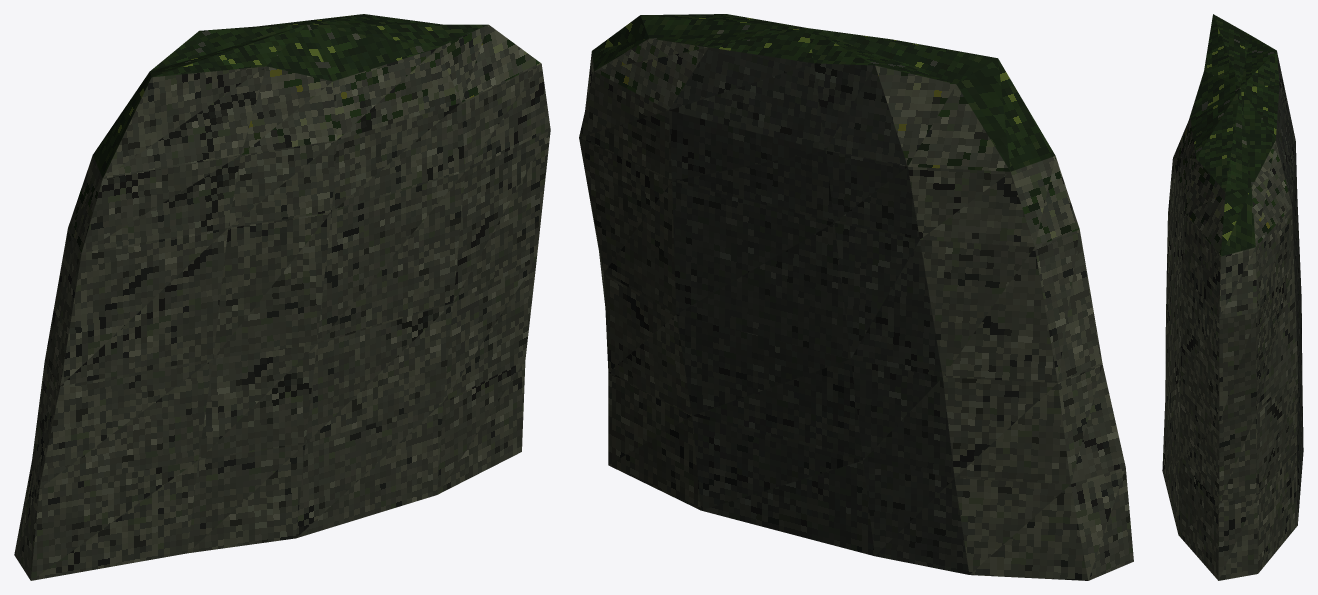
Rendered from forest_rock_slab.glb.
3 views of the same model, side by side, from view 1: azimuth 30°, elevation 25°; view 2: azimuth 150°, elevation 25°; view 3: azimuth 270°, elevation 25° (orthographic). The views are drawn at different scales.
Parts seen in each view (by area): view 1: ForestRock; view 2: ForestRock; view 3: ForestRock.
Boxes of the visible parts, left/top/right/bottom form: ForestRock: left=14, top=14, right=550, bottom=580; ForestRock: left=579, top=14, right=1133, bottom=580; ForestRock: left=1162, top=14, right=1303, bottom=580.
Size of what is drawn, in the model's own units: 2.49 by 2.11 by 0.6599.
Materials: 1 (1 with a texture image).
